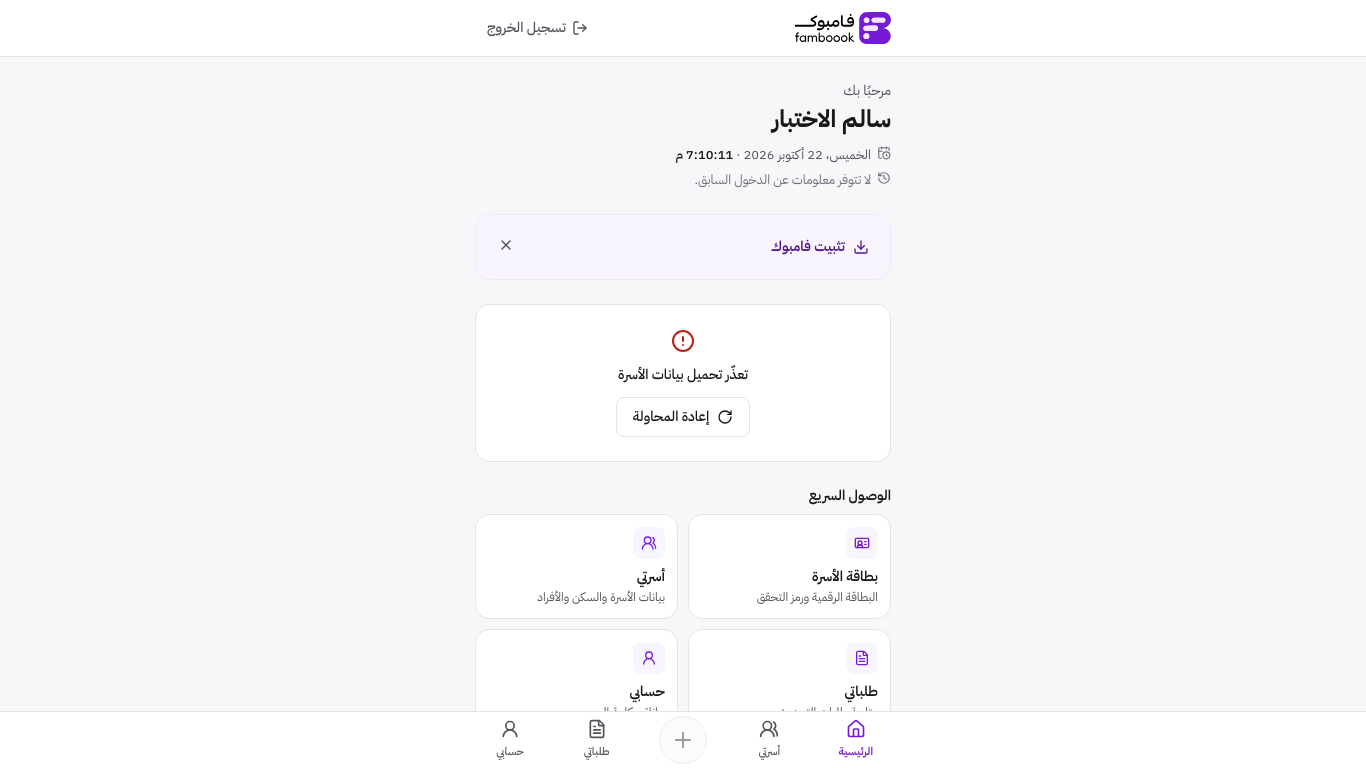
loading, errors and access › shows a transient failure inline, inside the shell, and retries
Expected: the message reads "تعذّر تحميل بيانات الأسرة", [618, 364, 748, 385]
Expected: the navigation bar named "التنقل الرئيسي" is shown, [0, 711, 1365, 767]
Click the button "إعادة المحاولة": (683, 417) [616, 397, 750, 437]
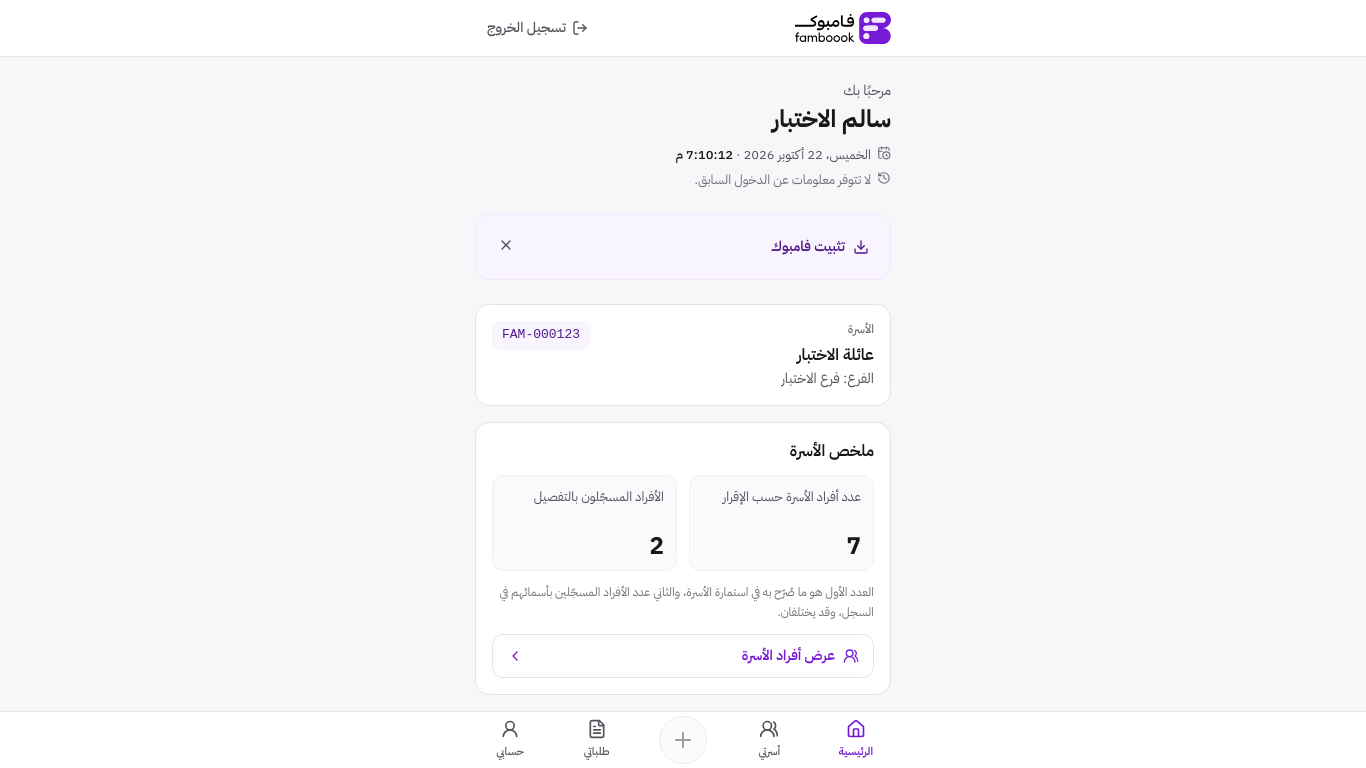
Expected: the element "ملخص الأسرة" is shown, [475, 422, 891, 695]
